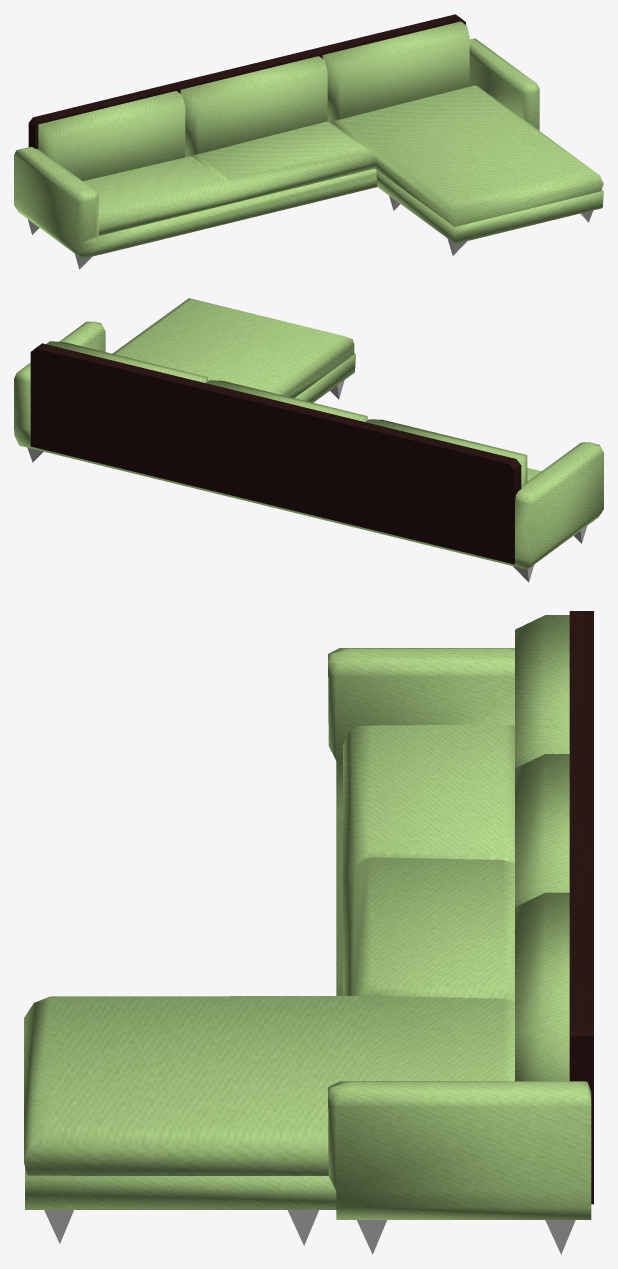
File: Chaise_Sofa_A_05.FBX
3 views of the same model, one above another, from view 1: azimuth 30°, elevation 25°; view 2: azimuth 150°, elevation 25°; view 3: azimuth 270°, elevation 25° (orthographic). The views are drawn at different scales.
Parts seen in each view (by area): view 1: Chaise_Sofa_A; view 2: Chaise_Sofa_A; view 3: Chaise_Sofa_A.
Part boxes in pixels (x1=…): Chaise_Sofa_A: x1=14, y1=14, x2=603, y2=269; Chaise_Sofa_A: x1=14, y1=298, x2=603, y2=582; Chaise_Sofa_A: x1=24, y1=611, x2=593, y2=1254.
Size of the model in its own units: 685 by 157 by 366.
